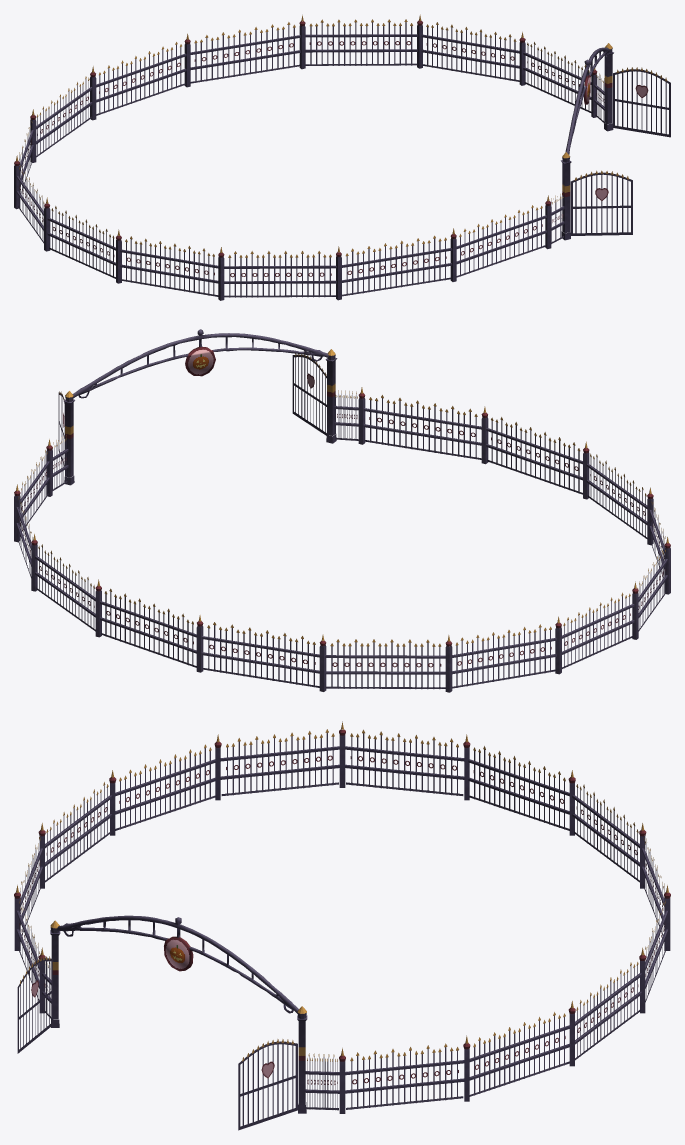
File: graveyard_fence.glb
3 views of the same model, one above another, from view 1: azimuth 30°, elevation 25°; view 2: azimuth 150°, elevation 25°; view 3: azimuth 270°, elevation 25° (orthographic). The views are drawn at different scales.
Visible parts, largest first — view 1: FencePanels, FenceRails, FencePosts, GateLeaves, GateArch; view 2: FencePanels, FenceRails, FencePosts, GateArch, GateLeaves; view 3: FencePanels, FenceRails, FencePosts, GateLeaves, GateArch.
Boxes of the visible parts, left/top/right/bottom form: FencePanels: left=18, top=19, right=606, bottom=297; FenceRails: left=16, top=34, right=604, bottom=283; FencePosts: left=14, top=14, right=613, bottom=300; GateLeaves: left=570, top=67, right=670, bottom=235; GateArch: left=565, top=47, right=609, bottom=154; FencePanels: left=17, top=390, right=666, bottom=689; FenceRails: left=16, top=406, right=667, bottom=674; FencePosts: left=14, top=349, right=670, bottom=692; GateArch: left=72, top=329, right=328, bottom=398; GateLeaves: left=58, top=353, right=328, bottom=466; FencePanels: left=18, top=729, right=666, bottom=1110; FenceRails: left=16, top=746, right=668, bottom=1093; FencePosts: left=14, top=721, right=670, bottom=1113; GateLeaves: left=17, top=956, right=297, bottom=1130; GateArch: left=57, top=915, right=298, bottom=1013.
Size of the model in its own units: 16.22 by 3.3 by 12.94.
2 materials, 2 textured.
